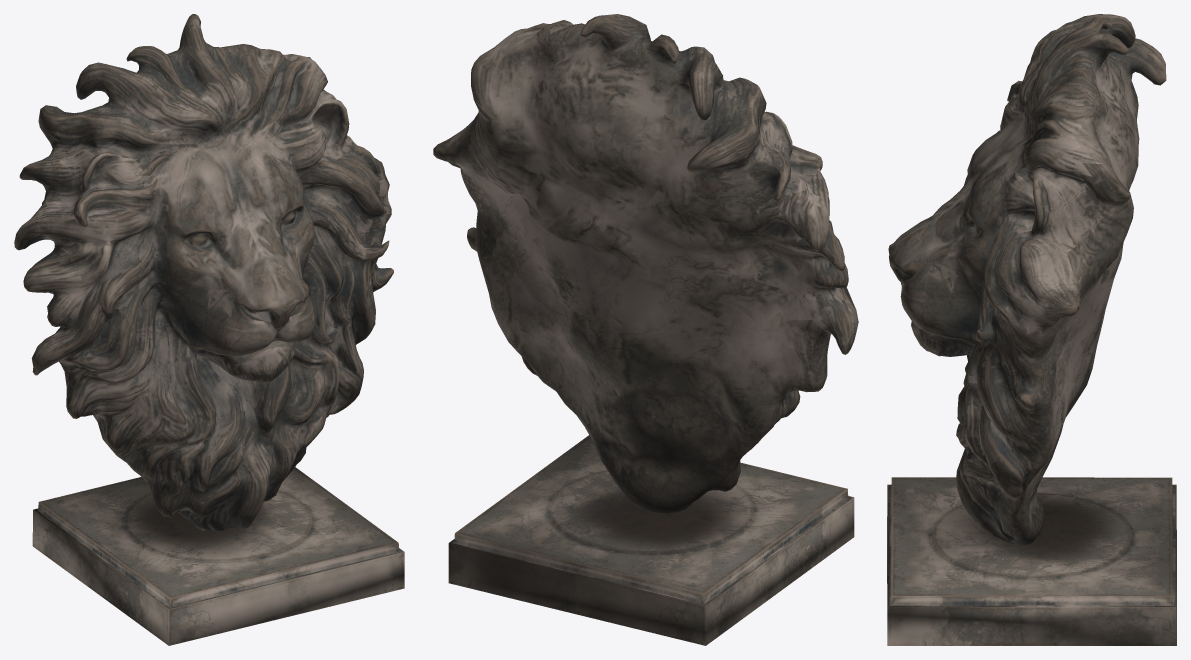
Rendered from lion_head_4k.obj.
3 renders of one model, left to right at view 1: azimuth 30°, elevation 25°; view 2: azimuth 150°, elevation 25°; view 3: azimuth 270°, elevation 25°, orthographic. The views are drawn at different scales.
Parts seen in each view (by area): view 1: lion_head; view 2: lion_head; view 3: lion_head.
Part boxes in pixels (left/top/right/bottom): lion_head: left=14, top=14, right=404, bottom=645; lion_head: left=433, top=14, right=858, bottom=645; lion_head: left=887, top=14, right=1176, bottom=645.
Bounding box in the file's own units: 0.3207 × 0.4365 × 0.2062.
1 material, 1 textured.
